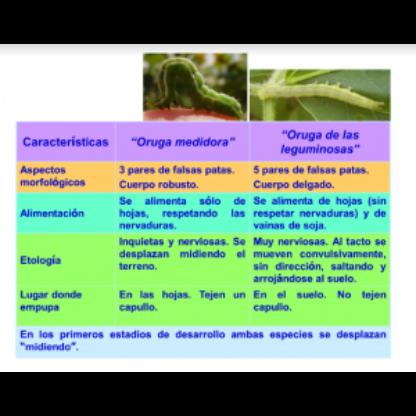oruga: (143, 57, 245, 119), (252, 80, 392, 118)
